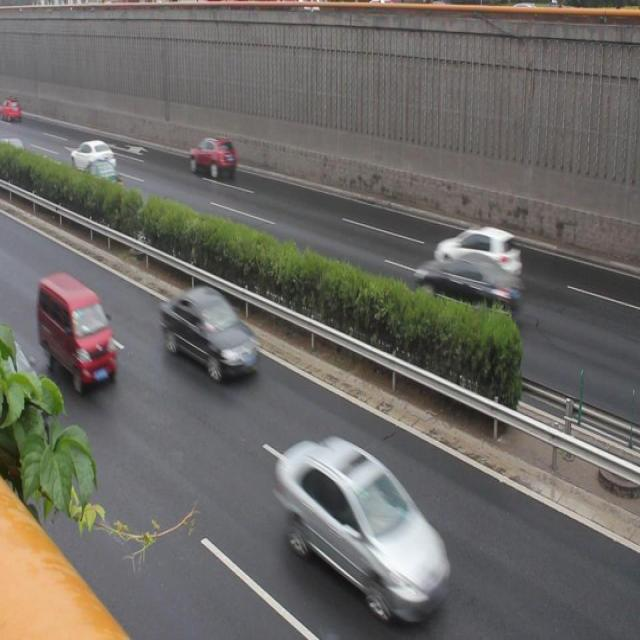car: (274, 429, 451, 621), (164, 286, 260, 384), (416, 251, 518, 325), (432, 219, 521, 280), (184, 134, 235, 180), (70, 138, 118, 176), (84, 157, 122, 201)
truck: (37, 274, 120, 383)
